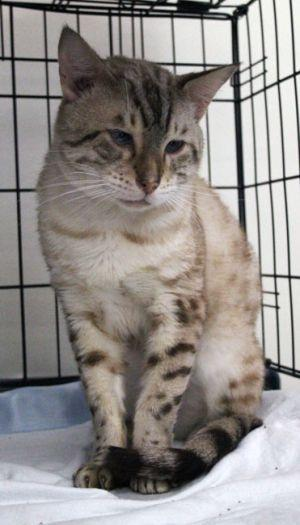bengal: (45, 11, 226, 230)
